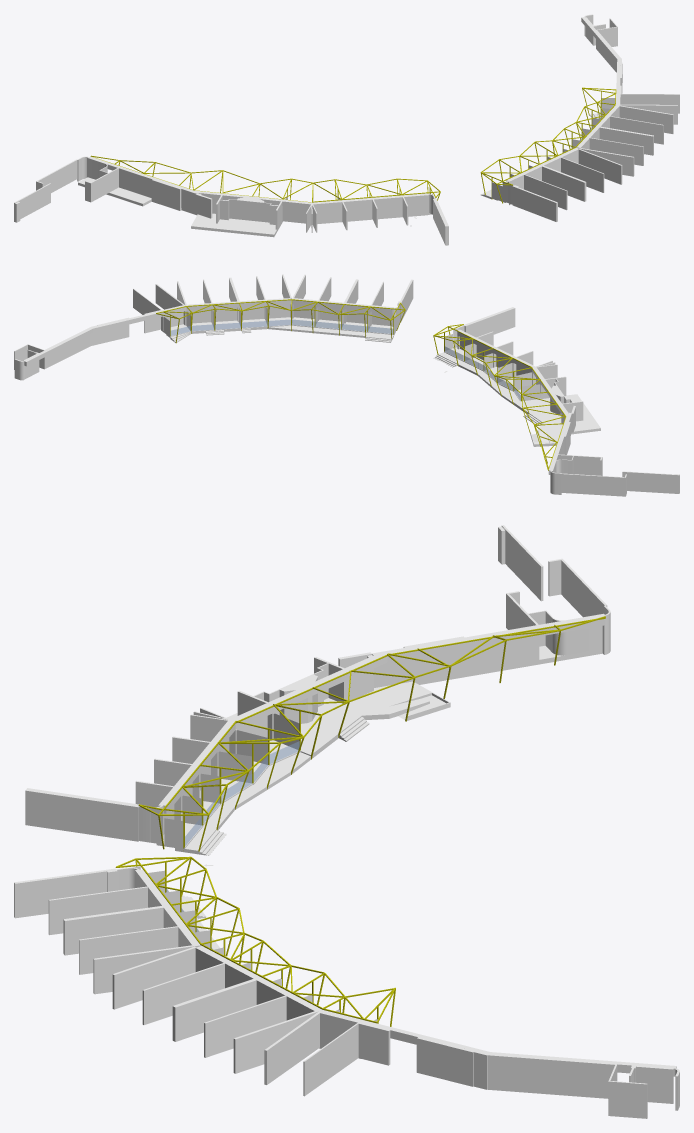
File: asset.glb
The picture shows the model from 3 angles, top to bottom: view 1: azimuth 30°, elevation 25°; view 2: azimuth 150°, elevation 25°; view 3: azimuth 270°, elevation 25°; orthographic projection. The views are drawn at different scales.
Visible parts, largest first — view 1: 252415, 252428, 252360, 252434, 252364, 252369, 252366, 252365, 252371, 252370, 252368, 252363 (+14 smaller); view 2: 252428, 252386, 252407, 252406, 252388, 252359, 252409, 252410, 252376, 252404, 252356, 252445 (+11 smaller); view 3: 252376, 252359, 252428, 252369, 252360, 252364, 252367, 252368, 252370, 252363, 252365, 252401 (+21 smaller).
Boxes of the visible parts, <box> form: 252415: <box>315,199,427,223</box>; 252428: <box>181,208,282,237</box>; 252360: <box>512,185,557,221</box>; 252434: <box>236,197,277,224</box>; 252364: <box>542,165,586,201</box>; 252369: <box>599,126,653,155</box>; 252366: <box>578,148,622,184</box>; 252365: <box>561,157,604,192</box>; 252371: <box>619,105,673,133</box>; 252370: <box>610,116,663,144</box>; 252368: <box>589,137,643,165</box>; 252363: <box>524,174,567,210</box>; 252428: <box>513,394,600,445</box>; 252386: <box>561,473,625,496</box>; 252407: <box>187,304,290,323</box>; 252406: <box>294,304,392,326</box>; 252388: <box>622,471,679,493</box>; 252359: <box>463,307,515,337</box>; 252409: <box>185,298,290,310</box>; 252410: <box>91,305,186,332</box>; 252376: <box>45,327,90,368</box>; 252404: <box>292,298,392,313</box>; 252356: <box>557,454,600,475</box>; 252445: <box>291,325,393,339</box>; 252376: <box>487,1054,617,1098</box>; 252359: <box>25,788,139,841</box>; 252428: <box>226,681,432,758</box>; 252369: <box>172,978,256,1041</box>; 252360: <box>14,868,116,918</box>; 252364: <box>63,905,163,955</box>; 252367: <box>112,946,195,1009</box>; 252368: <box>142,962,225,1024</box>; 252370: <box>204,995,286,1057</box>; 252363: <box>48,886,148,935</box>; 252365: <box>79,926,178,974</box>; 252401: <box>372,614,605,662</box>.
Bounding box in the file's own units: 107 × 6.24 × 53.98.
